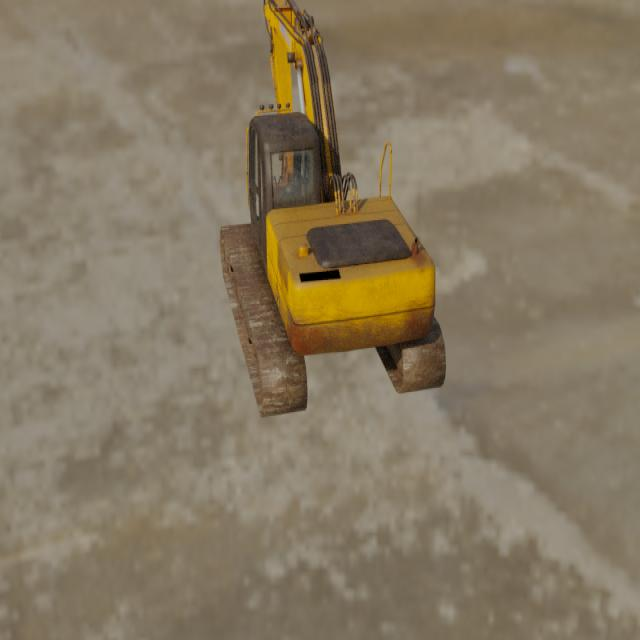excavator: (219, 0, 446, 419)
